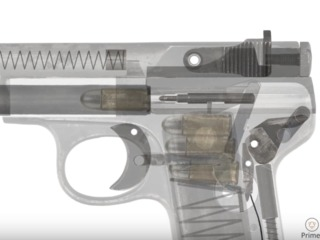gun: (2, 29, 319, 240)
